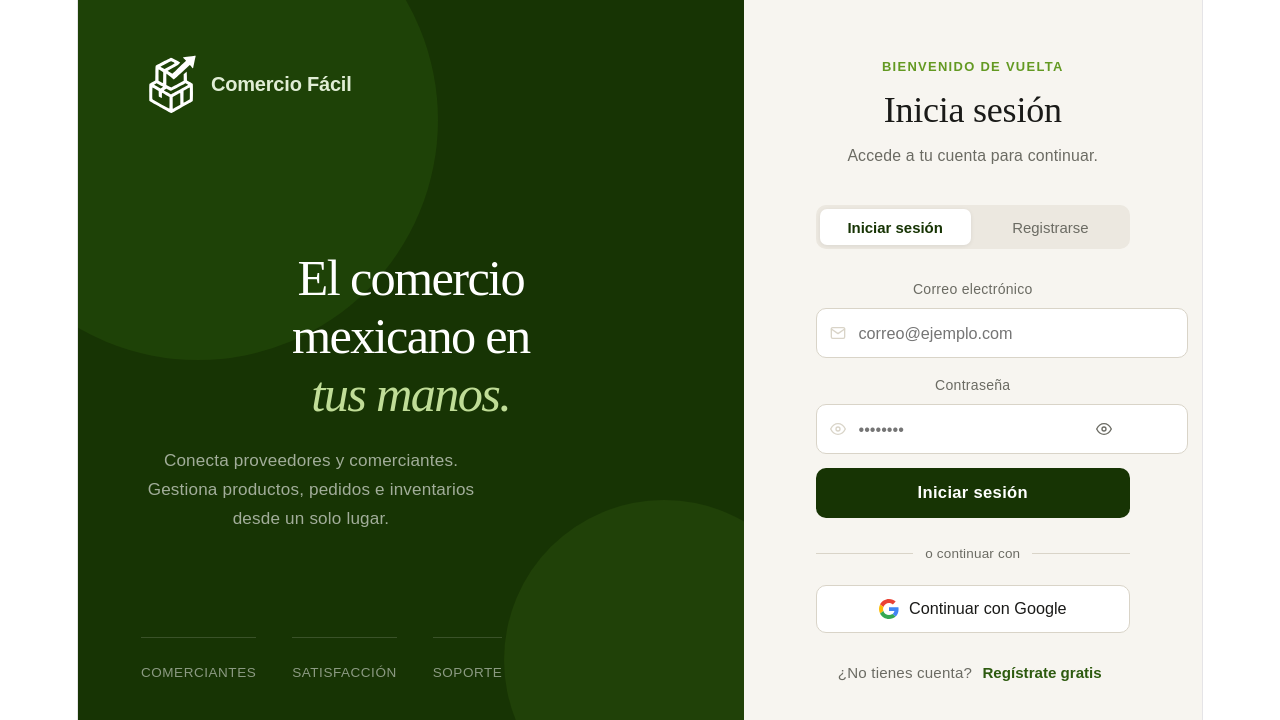
Test: AuthPage — Registro › muestra el botón de crear cuenta
Step 1. Click the button "Registrarse" → (1050, 227), box [975, 209, 1126, 245]
(page scrolled)
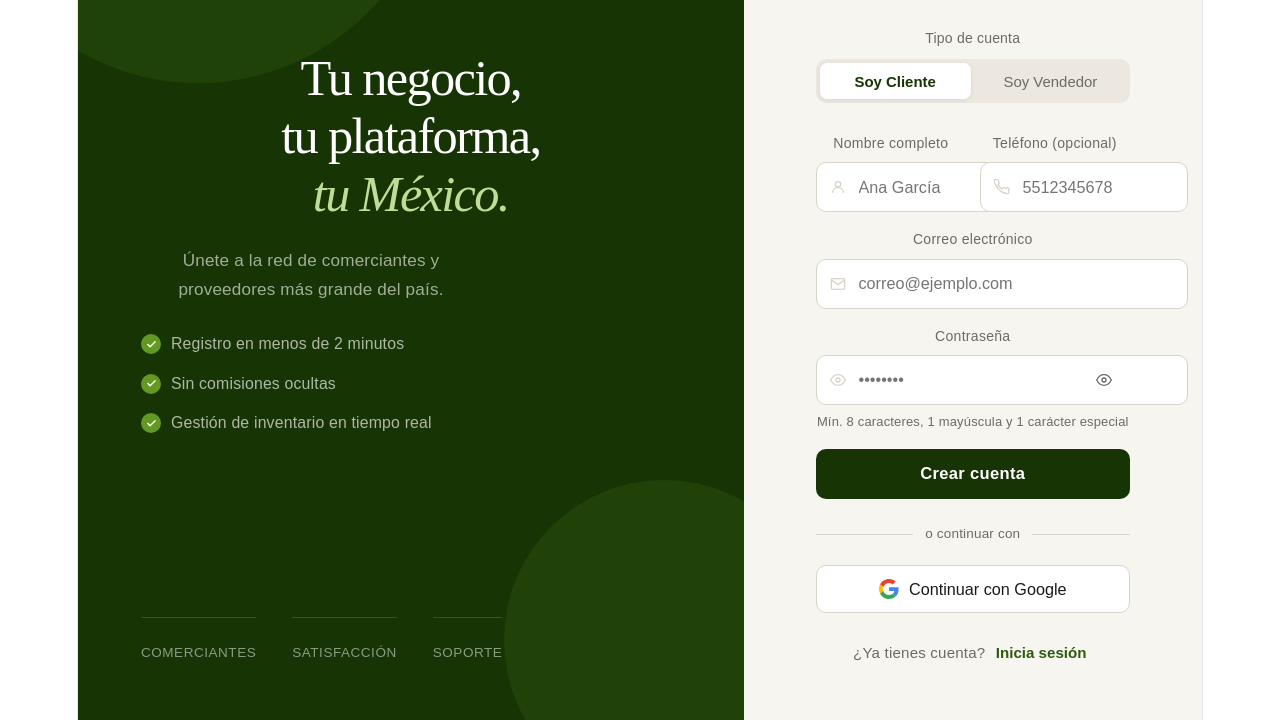
Check: the button "Crear cuenta" is shown, box [816, 449, 1130, 499]
